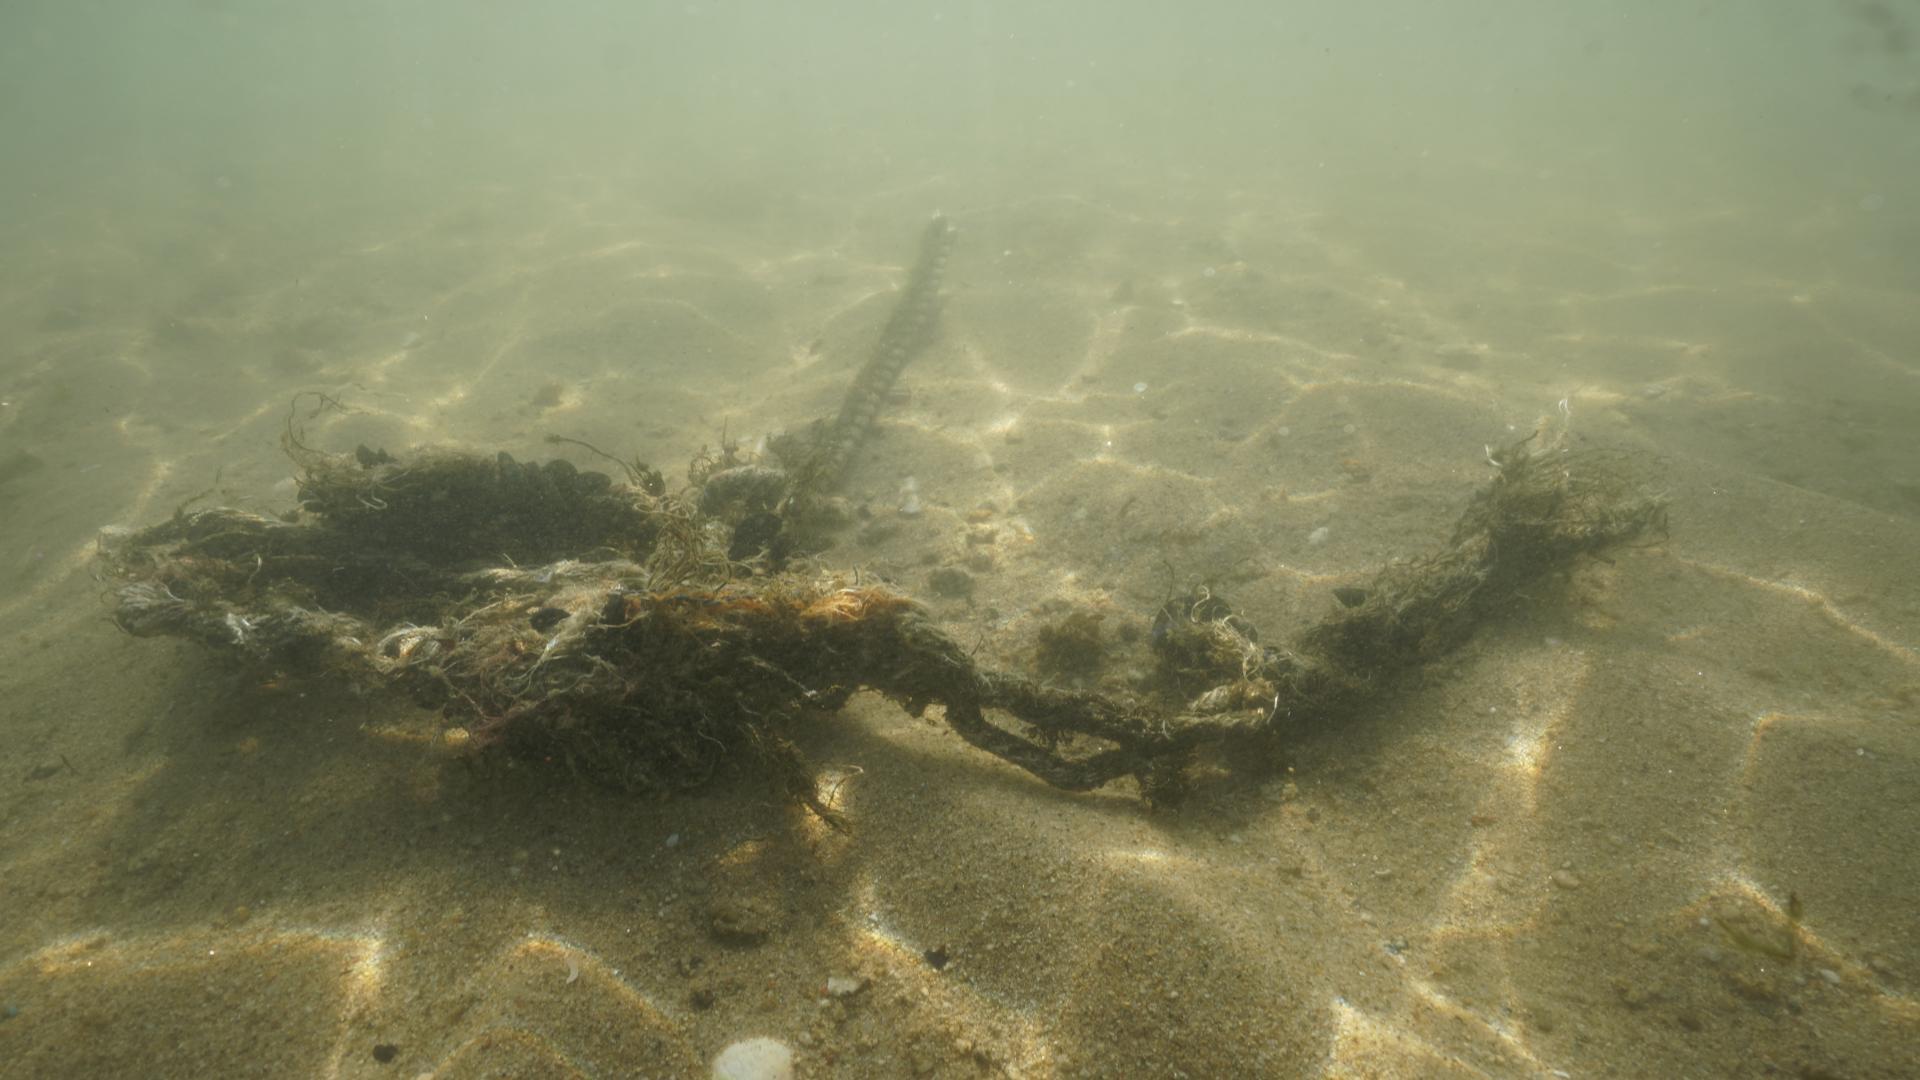rope: (810, 220, 957, 500)
